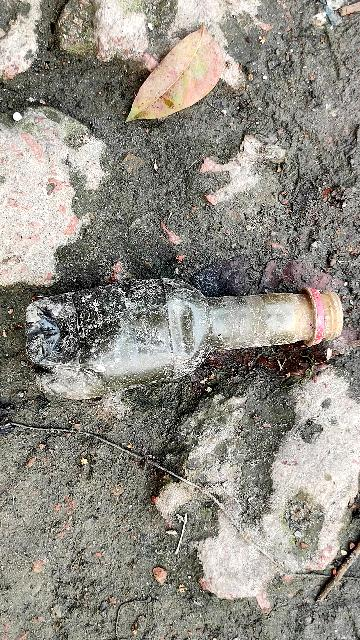bottle: (24, 264, 345, 388)
